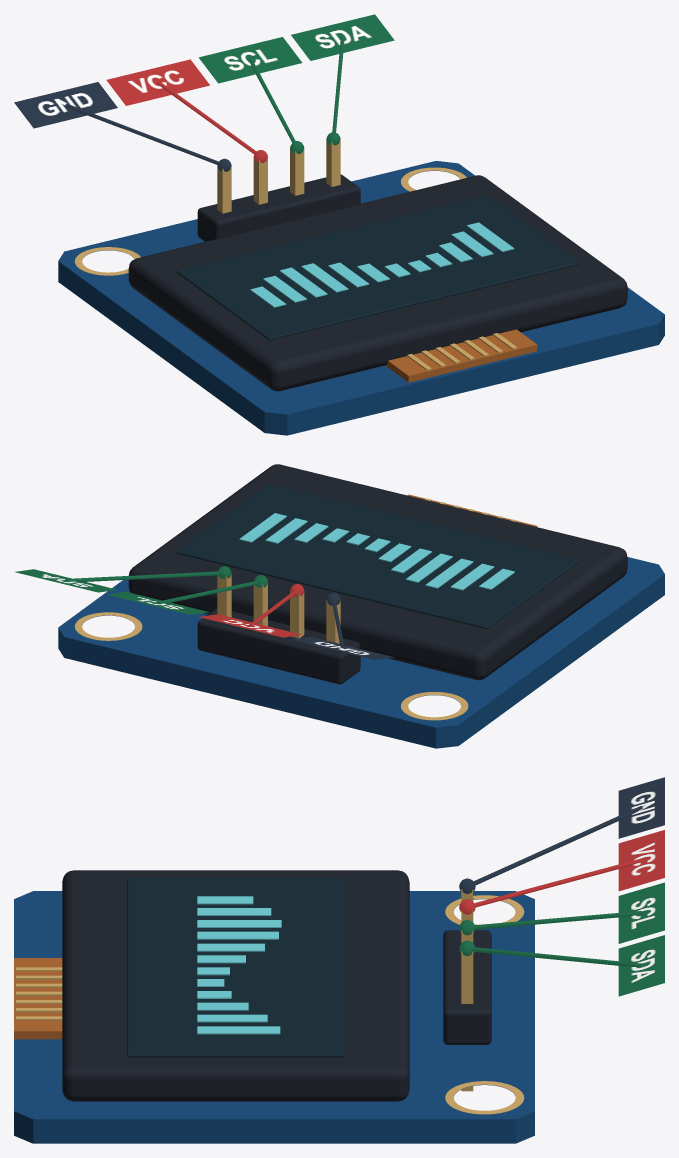
Rendered from oled.glb.
3 views of the same model, one above another, from view 1: azimuth 30°, elevation 25°; view 2: azimuth 150°, elevation 25°; view 3: azimuth 270°, elevation 25° (orthographic). The views are drawn at different scales.
Visible parts, largest first — view 1: oled, Terminal labels, SDA, SCL, VCC, GND; view 2: oled, Terminal labels, VCC, GND, SCL, SDA; view 3: oled, Terminal labels, VCC, SCL, SDA, GND.
Part boxes in pixels (<box>): oled: <box>58,138,664,435</box>; Terminal labels: <box>65,36,344,171</box>; SDA: <box>291,14,394,60</box>; SCL: <box>198,37,302,83</box>; VCC: <box>106,59,209,105</box>; GND: <box>14,82,117,128</box>; oled: <box>58,464,664,748</box>; Terminal labels: <box>65,566,344,648</box>; VCC: <box>199,614,301,637</box>; GND: <box>291,636,393,659</box>; SCL: <box>106,591,209,614</box>; SDA: <box>15,569,117,592</box>; oled: <box>14,870,534,1143</box>; Terminal labels: <box>459,806,642,966</box>; VCC: <box>618,830,664,891</box>; SCL: <box>618,882,664,943</box>; SDA: <box>618,935,664,996</box>; GND: <box>618,777,664,838</box>.
Bounding box in the file's own units: 0.028 × 0.0102 × 0.0337.
14 materials, 4 textured.
